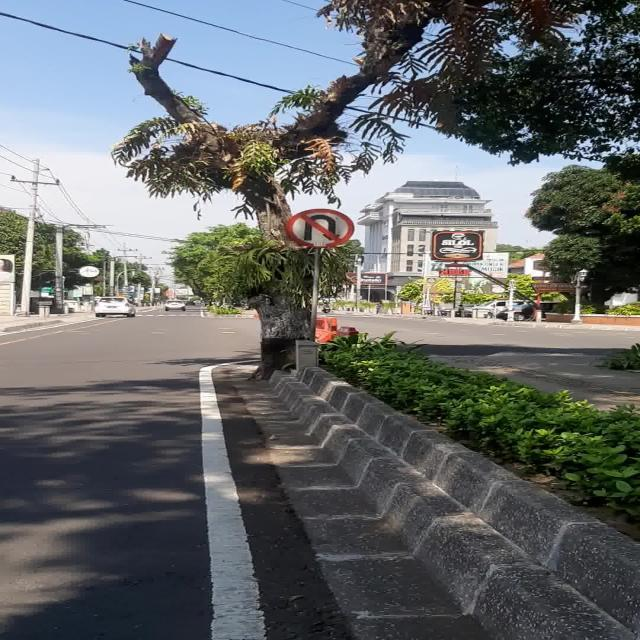Dilarang Putar Balik: (286, 208, 356, 248)
